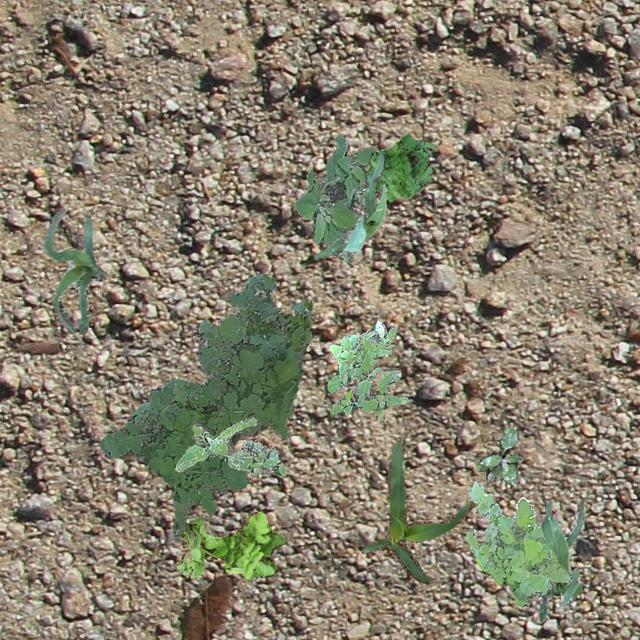crop: (361, 436, 474, 584), (42, 208, 106, 334), (314, 154, 386, 258), (536, 498, 582, 622)
weed: (98, 273, 312, 542), (464, 480, 570, 606), (294, 134, 376, 262), (327, 318, 408, 422), (176, 510, 286, 580), (172, 416, 284, 476), (358, 134, 436, 202), (476, 426, 522, 484)
